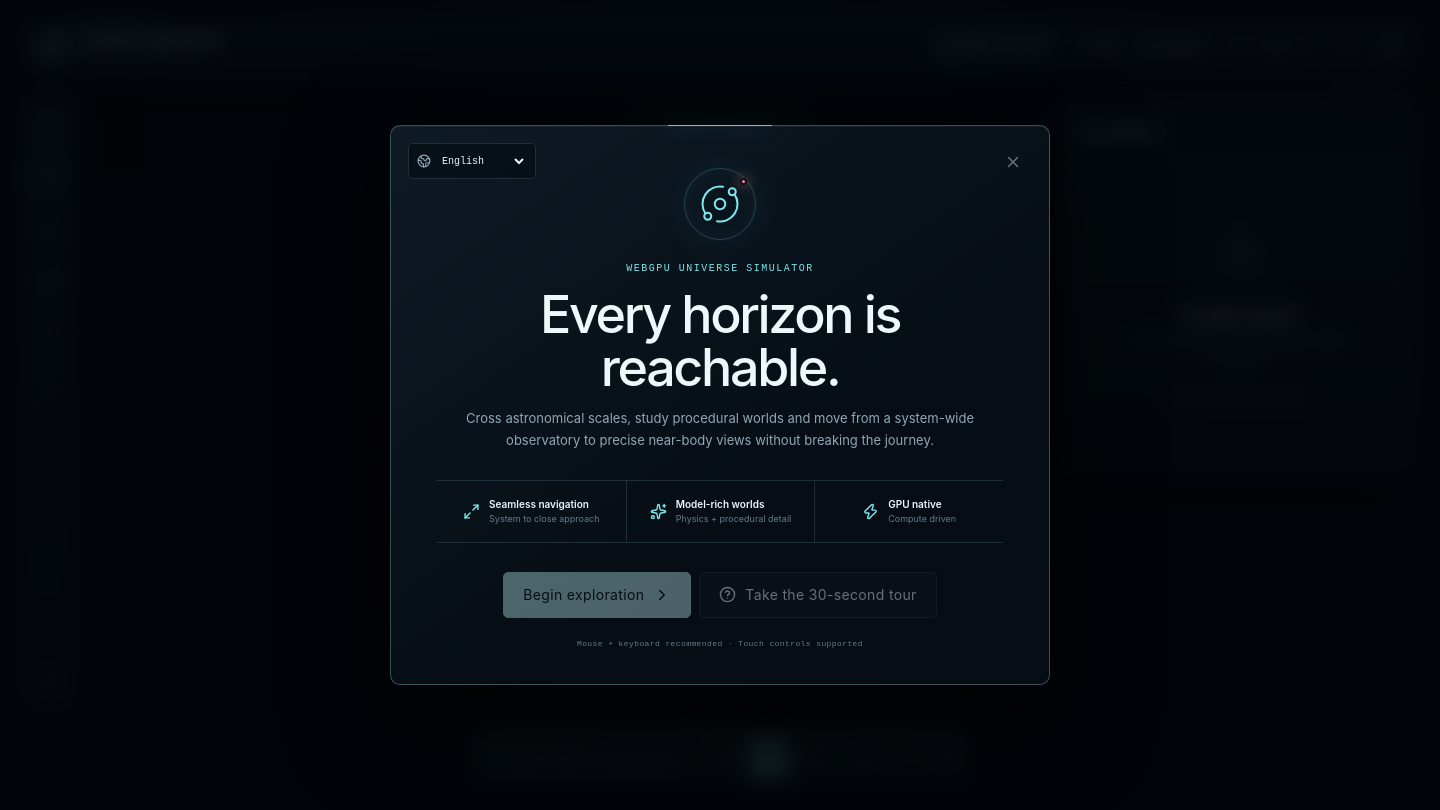
Test: Explorer HUD internationalization › switches the welcome experience to Traditional Chinese before entry
Select "繁體中文" in the dropdown named "Language": (482, 161) [438,145,527,177]
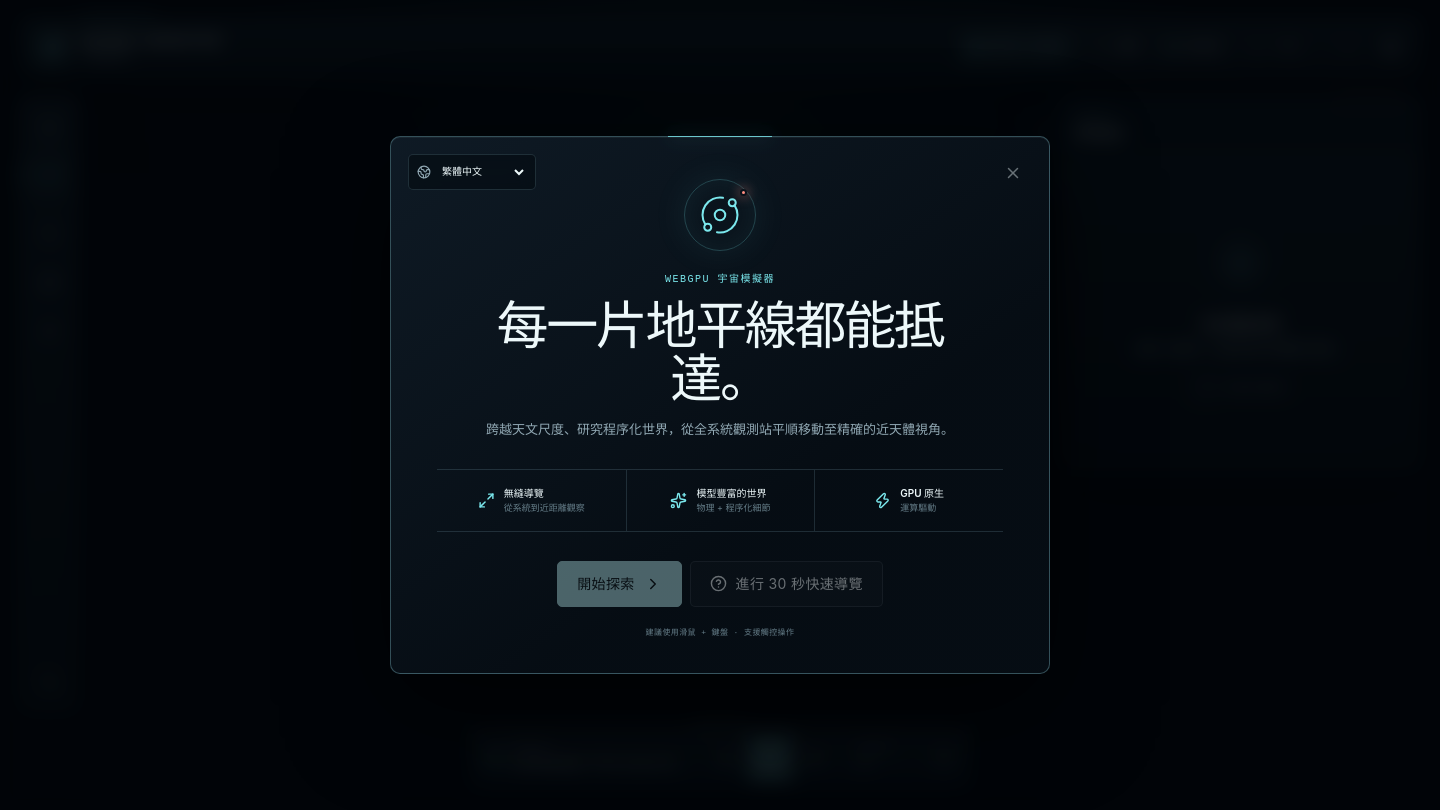
Result: the heading "每一片地平線都能抵達。" is shown at [460,299,980,405]
Result: the button named "關閉歡迎畫面" is shown at [991,151,1035,195]
